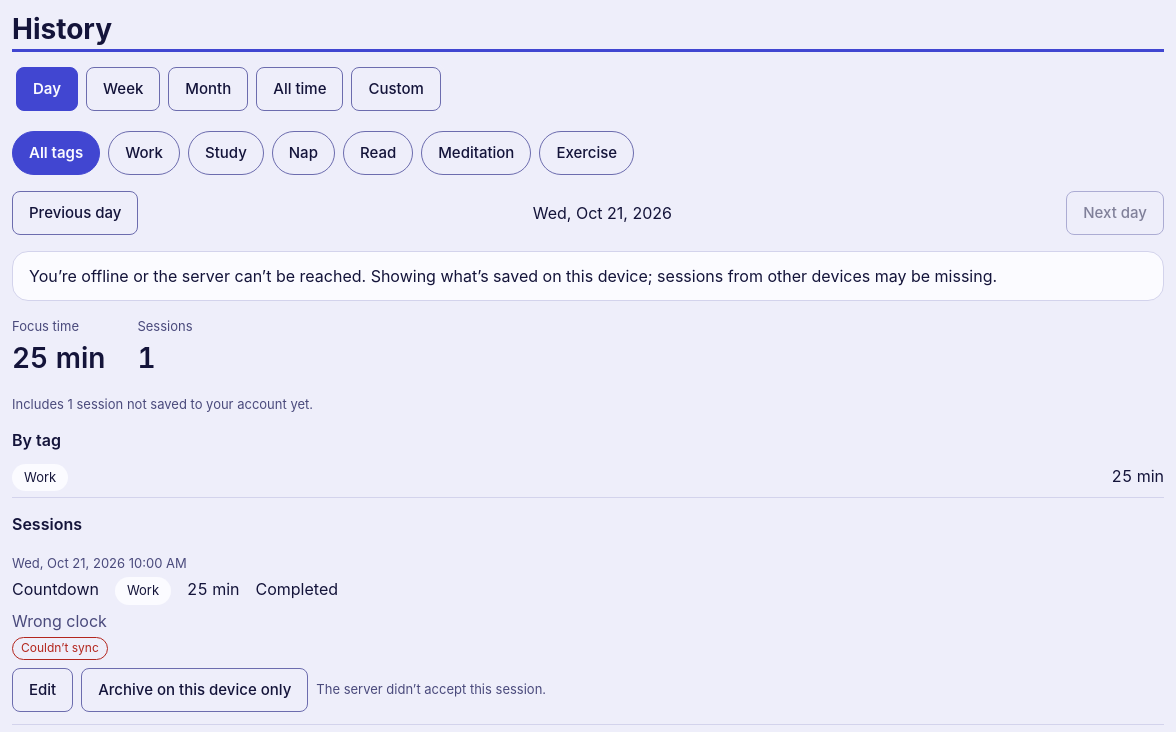
Test: Archive on this device only (AC11.2, AC11.4, AC11.5) › leaves History and totals at once, offline too, sending nothing, with Undo
This screenshot has width=1176, height=732.
Expected: the text "Wrong clock" is shown, [12,611,107,631]
Click the button "Archive on this device only".
click(195, 690)  # box [81,668,308,712]
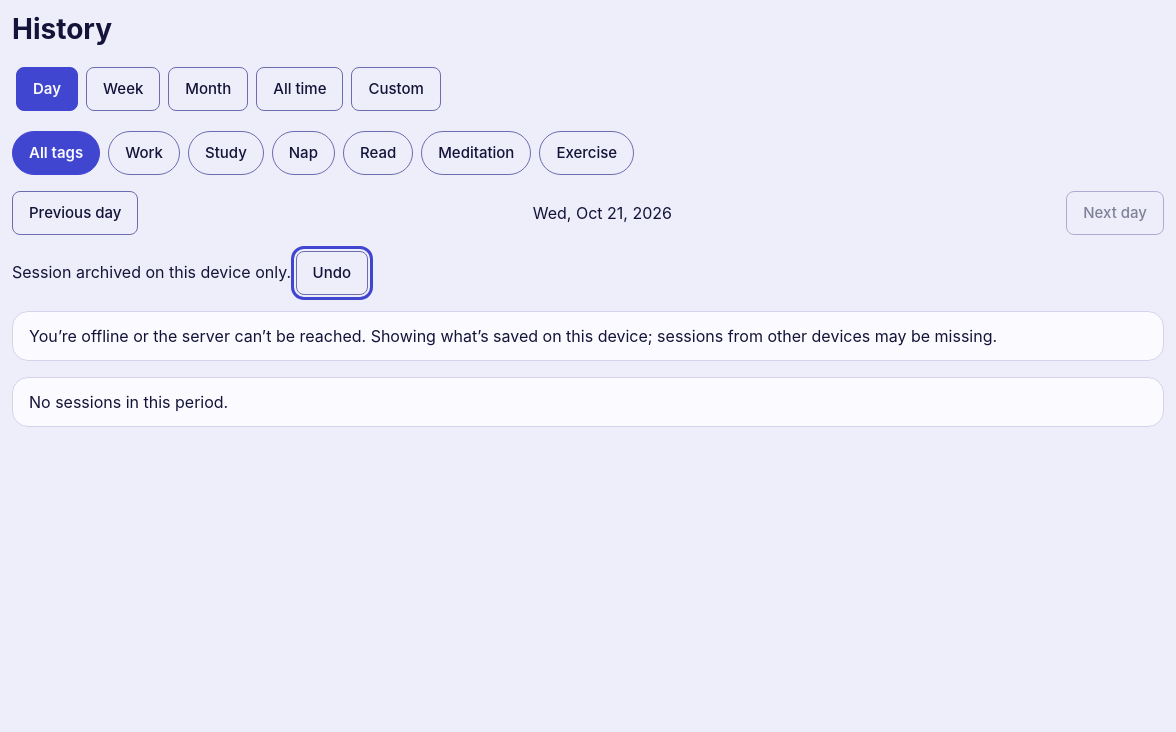
Expected: the text "Session archived on this device only." is shown, [12,262,291,282]
Expected: the text "Wrong clock" is gone
Expected: the text "No sessions in this period." is shown, [29,390,228,414]
Note: Undo puts it back, still marked, and sends nothing.
Click the button "Undo".
click(332, 273)  # box [296,251,368,295]
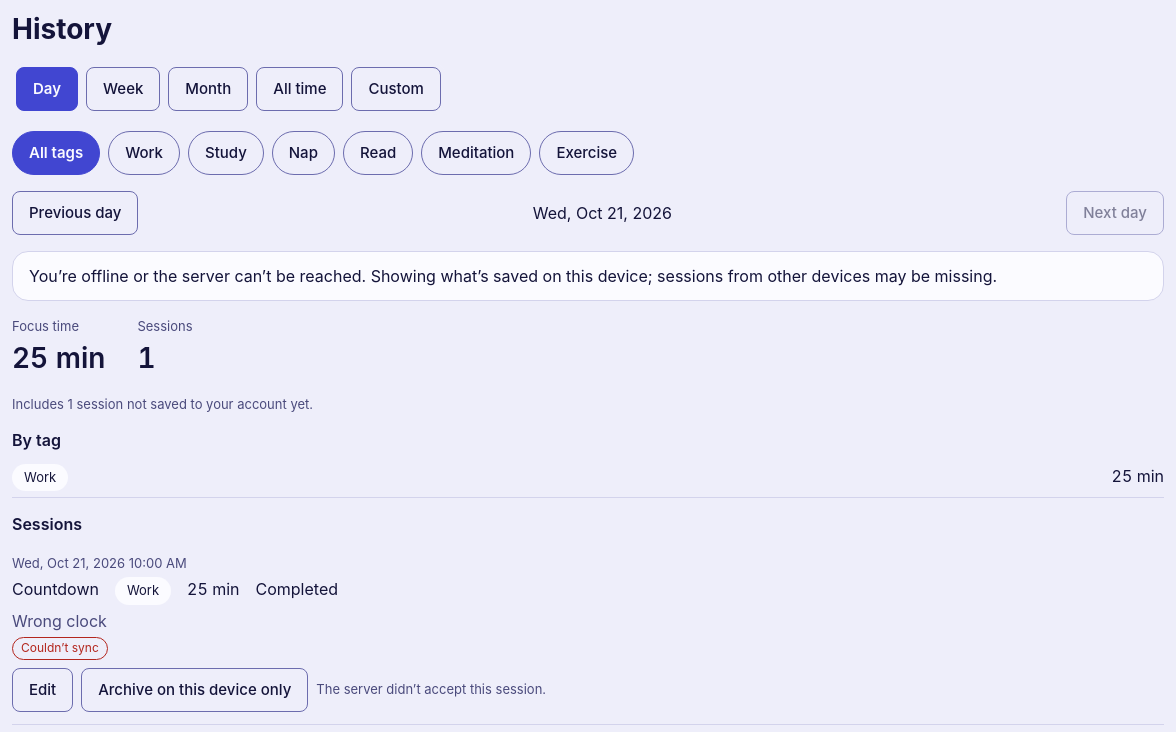
Expected: the text "Wrong clock" is shown, [12,611,107,631]
Expected: the text "Couldn’t sync" is shown, [12,637,108,660]
